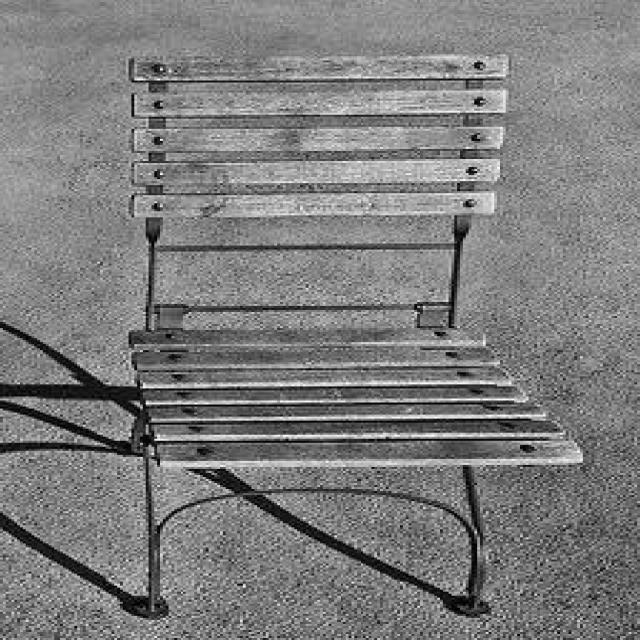chair: (133, 54, 583, 620)
